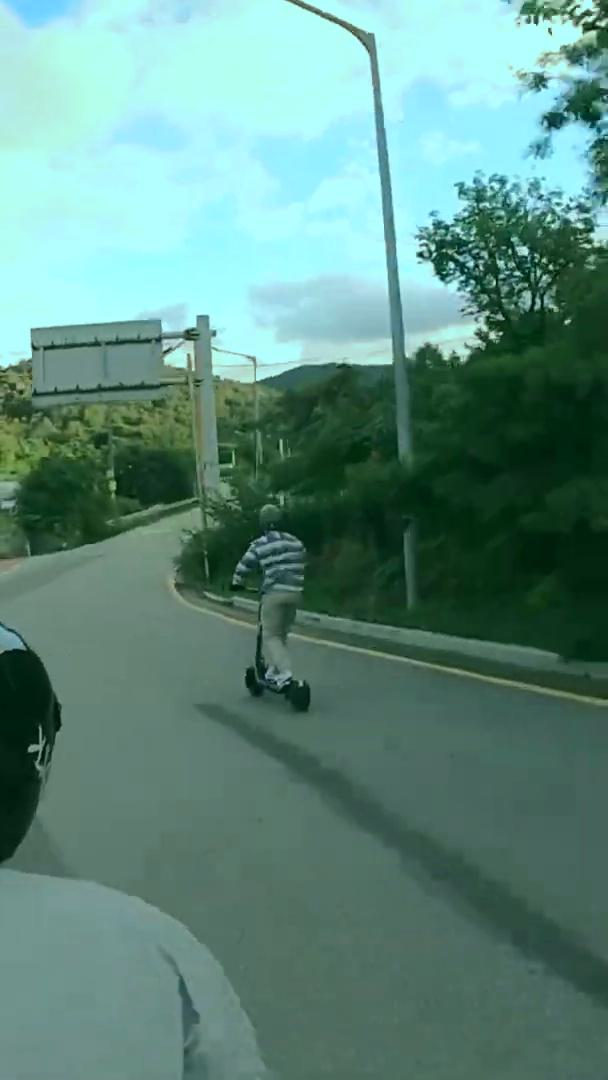helmet: (230, 500, 319, 715)
